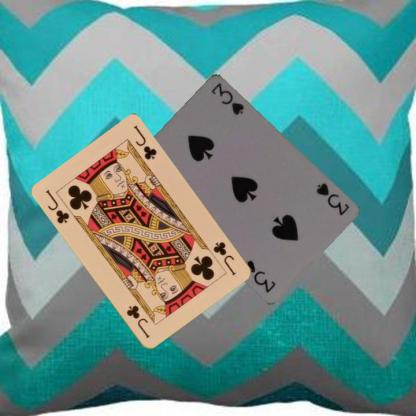3s: (312, 180, 350, 218)
Jc: (43, 188, 71, 226), (211, 238, 237, 276)
